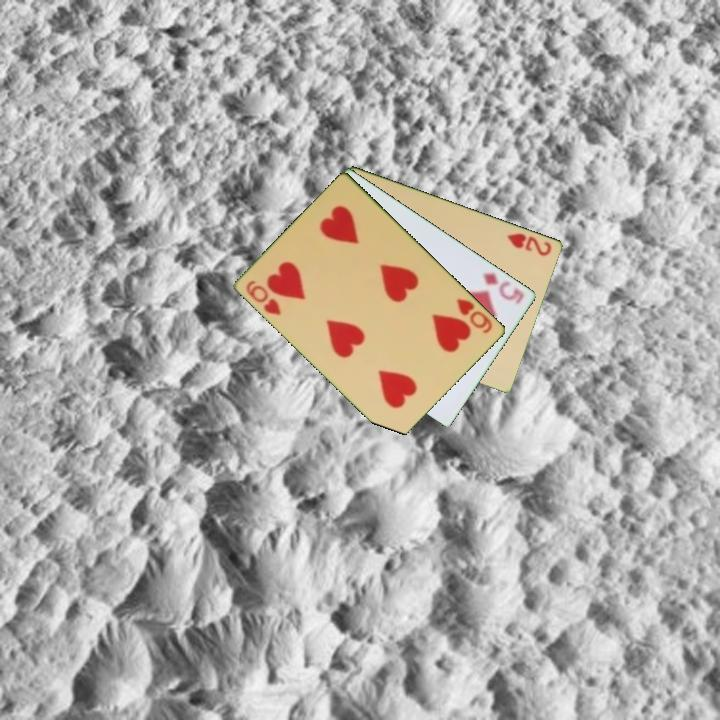2h: (503, 229, 555, 259)
5d: (480, 269, 527, 307)
6h: (243, 276, 284, 319), (453, 295, 495, 336)
